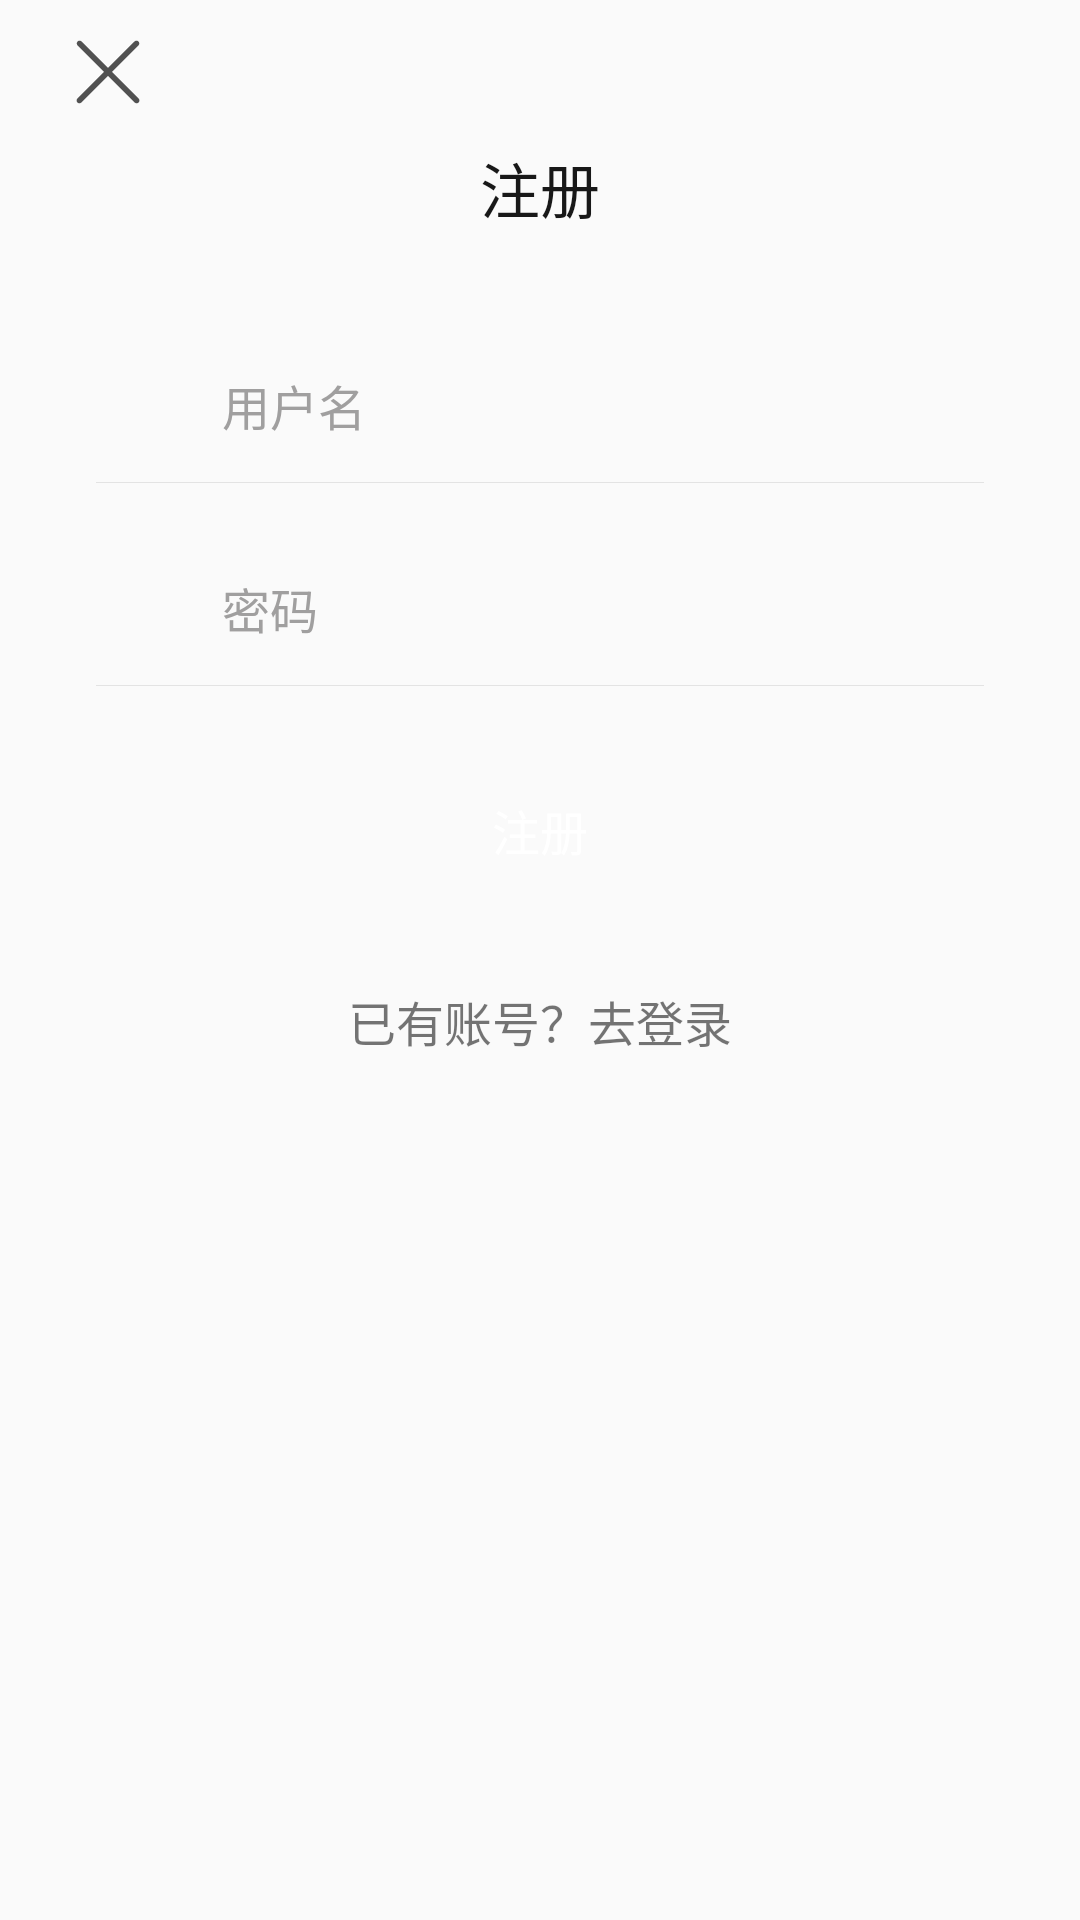

Icon bounding boxes for this 1080 x 1920 phone screenshot, format (x1, y1, x2, y2):
close: (76, 40, 140, 104)
